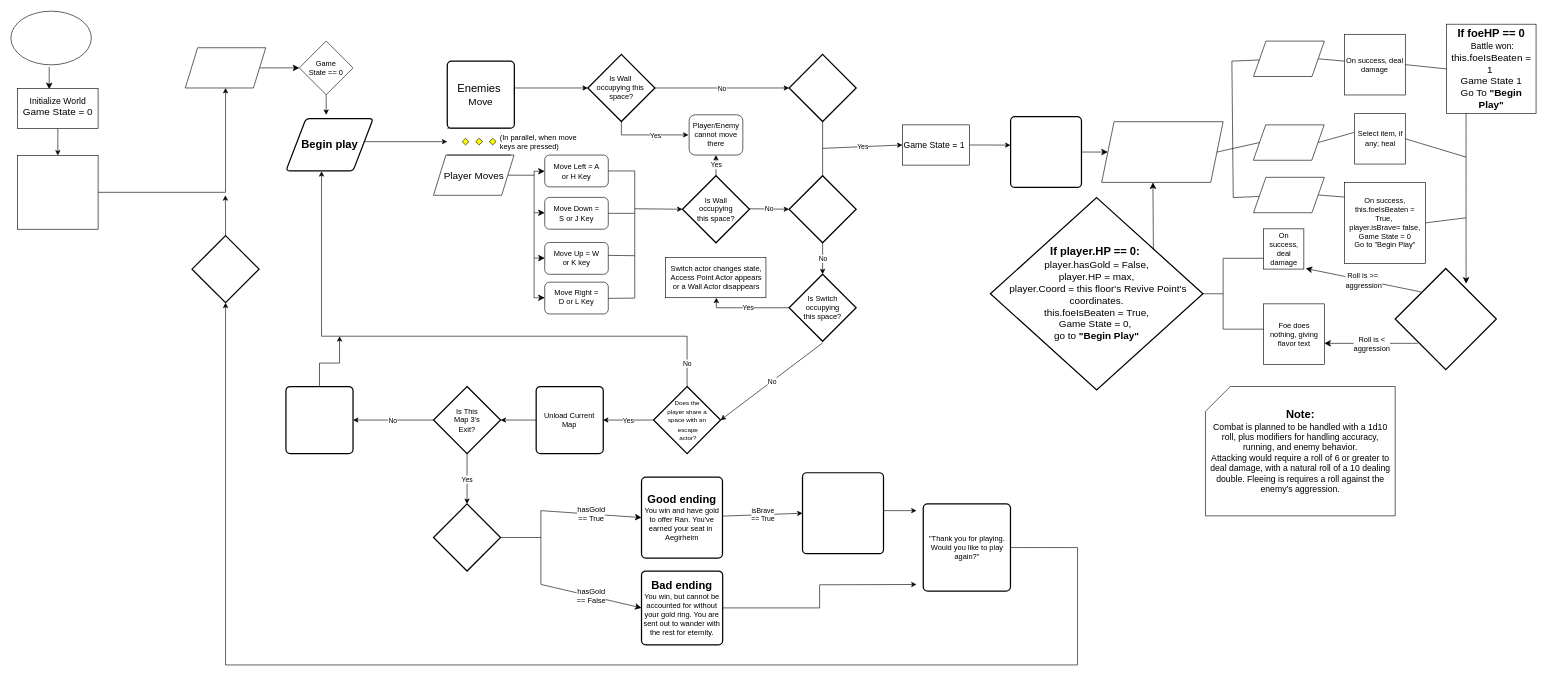
Image size: 1547x681. Some labels were removed from this diagram. Each missing label, with the box of its shape:
Attack: (1253, 40, 1324, 77)
Best ending You are reunited with your crewmates and amaze them with your saga.: (802, 472, 884, 554)
Combat Start: (1010, 116, 1082, 188)
Enemy Turn: (1394, 268, 1497, 370)
Game Start: (10, 11, 91, 65)
Game State 2: (433, 503, 501, 571)
Game State = 0: (191, 235, 259, 303)
Initialize Actors Wall Access Point Revive Point Switch Player Enemy: (17, 155, 98, 229)
Is Enemy occupying this space?: (788, 175, 856, 243)
Is Player occupying this space?: (788, 54, 856, 122)
Item: (1253, 124, 1324, 160)
Player Turn: (1101, 121, 1223, 182)
Print First Map: (185, 47, 266, 88)
Print Next Map: (285, 386, 353, 454)
Run: (1253, 177, 1324, 213)
